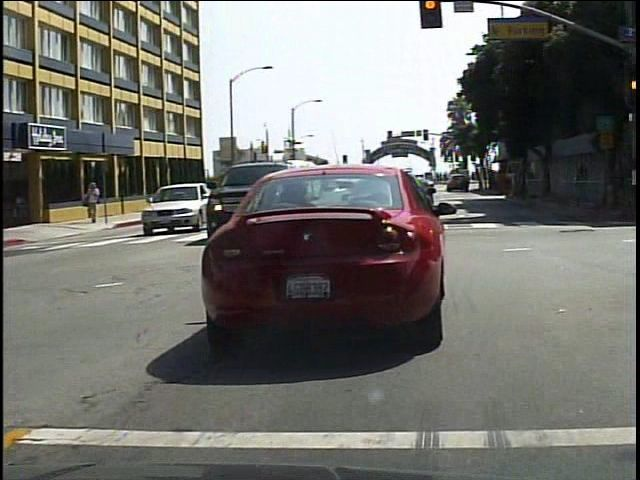person: (85, 178, 107, 226)
